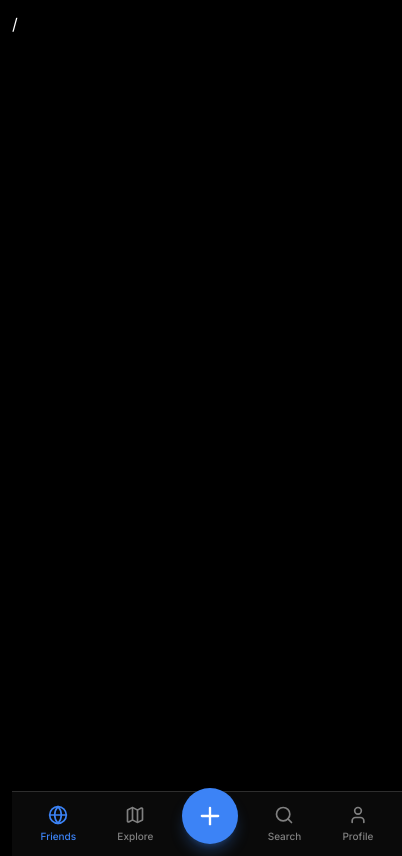
Test: per-tab history › tapping the tab you're on returns to its first screen
Click the button "Explore".
click(135, 824)  # box [105,796,165,852]
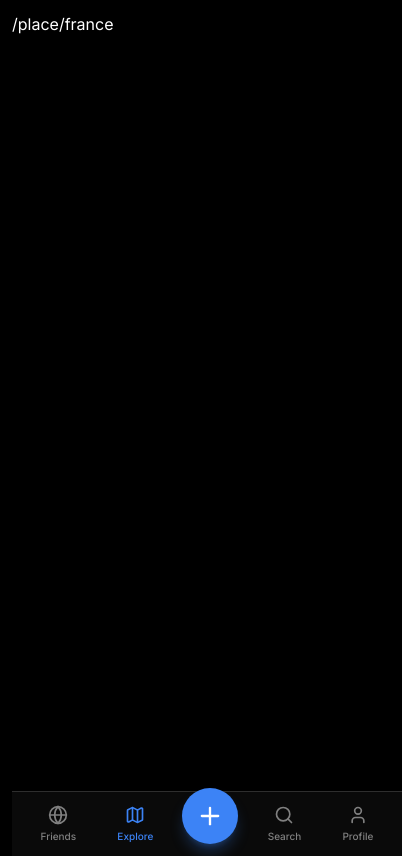
Click the button "Explore".
click(135, 824)  # box [105,796,165,852]
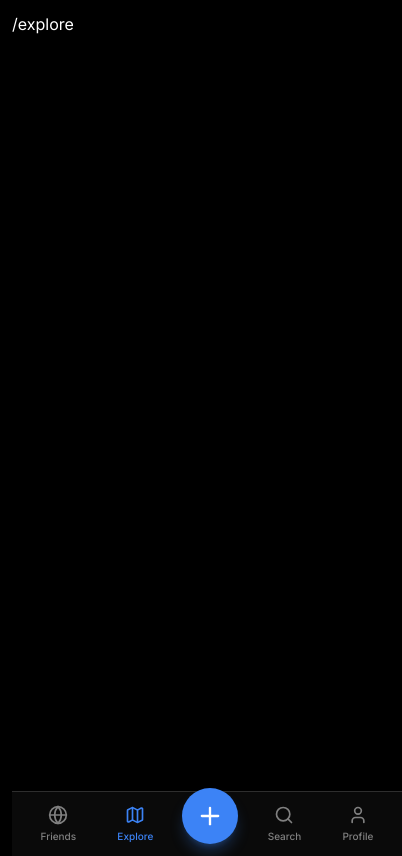
Check: the text with test id "screen" reads "/explore", box [12,14,74,34]
Click the button "Search".
click(284, 824)  # box [256,796,313,852]
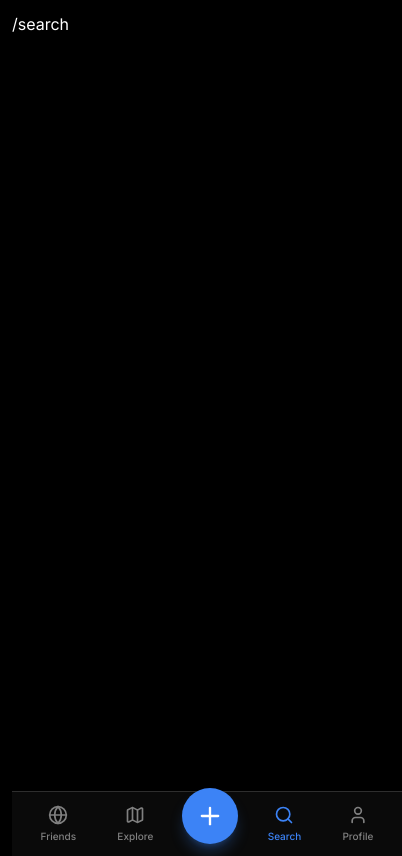
Click the button "Explore".
click(135, 824)  # box [105,796,165,852]
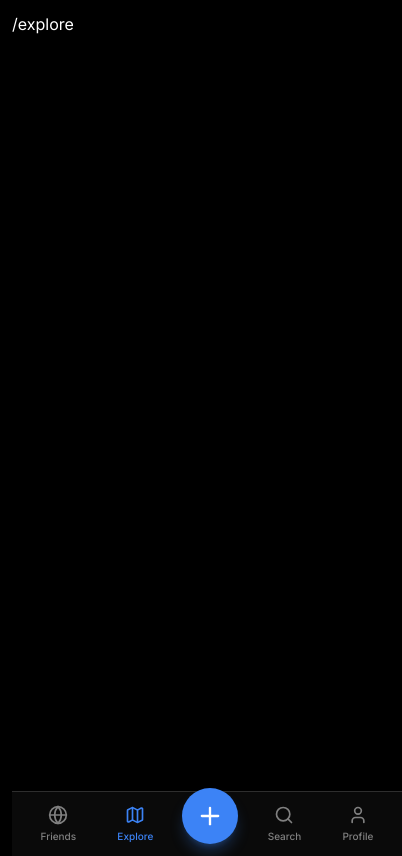
Check: the text with test id "screen" reads "/explore", box [12,14,74,34]
